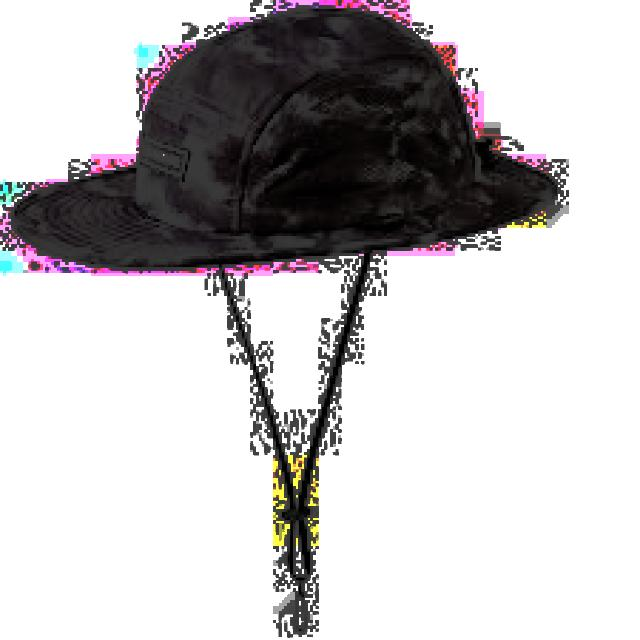TOPI: (6, 3, 560, 273)
